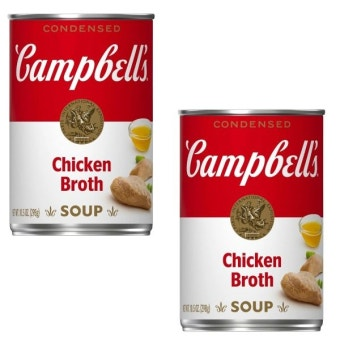paper: (5, 12, 156, 242), (176, 107, 325, 335)
